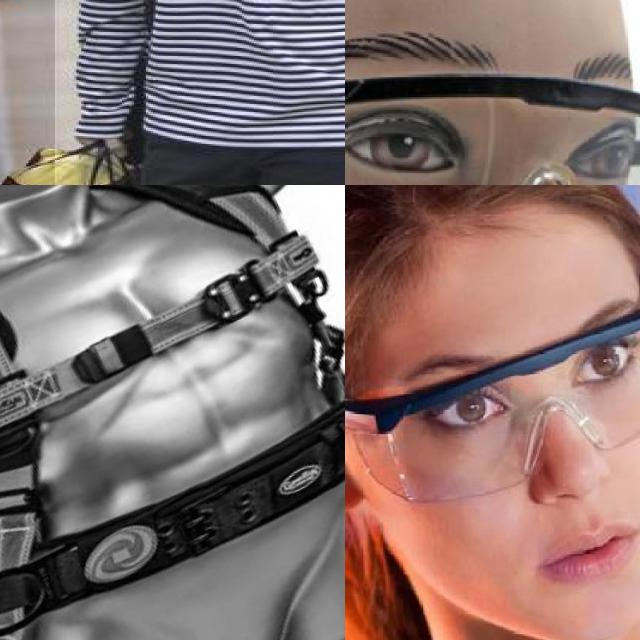Harness: (0, 185, 345, 635)
face_nomask: (414, 325, 640, 598), (345, 80, 640, 185)
glasses: (345, 266, 640, 508), (345, 70, 640, 185)
head_nohelmet: (345, 185, 639, 299)
person: (54, 0, 345, 185)
